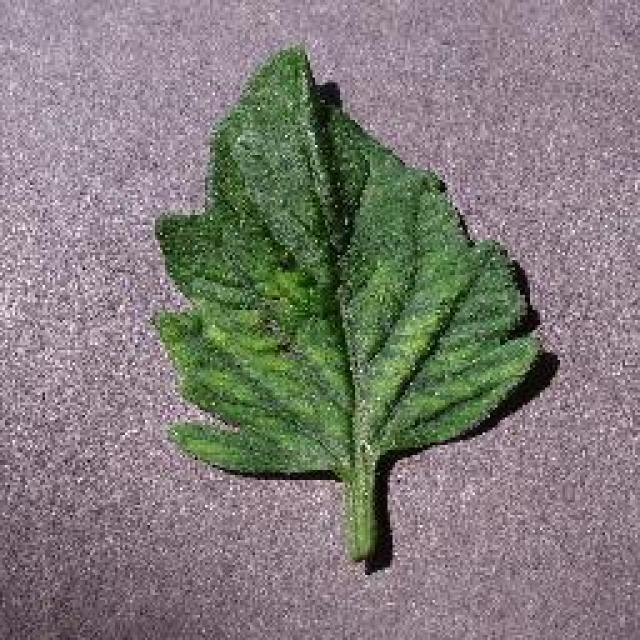Tomato spider mites leaf: (155, 46, 545, 476)
